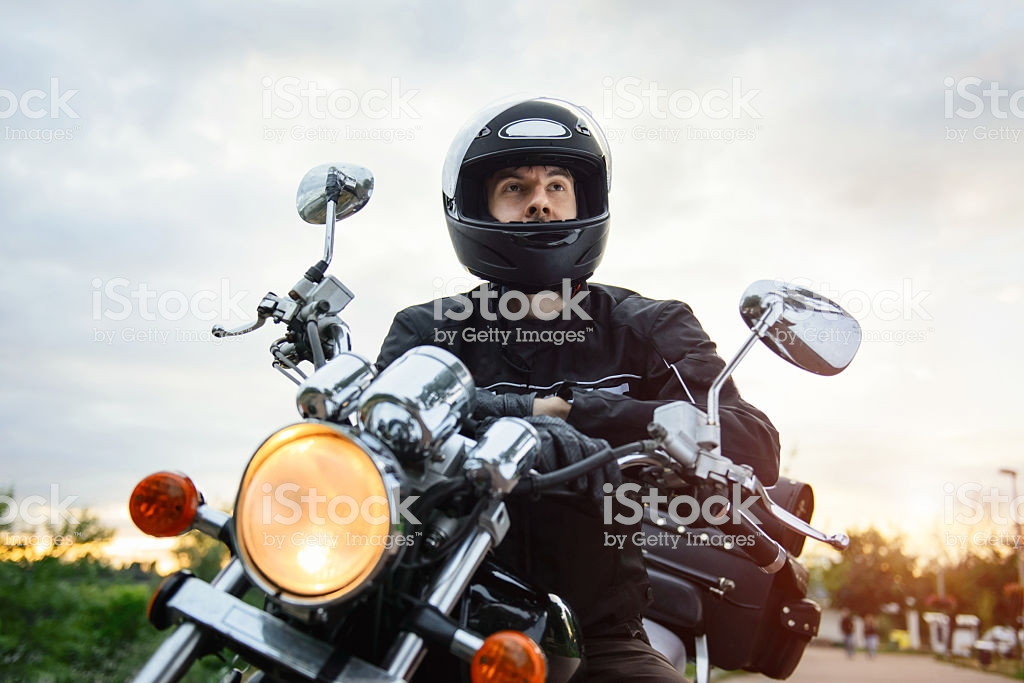helmet: (433, 95, 623, 290)
